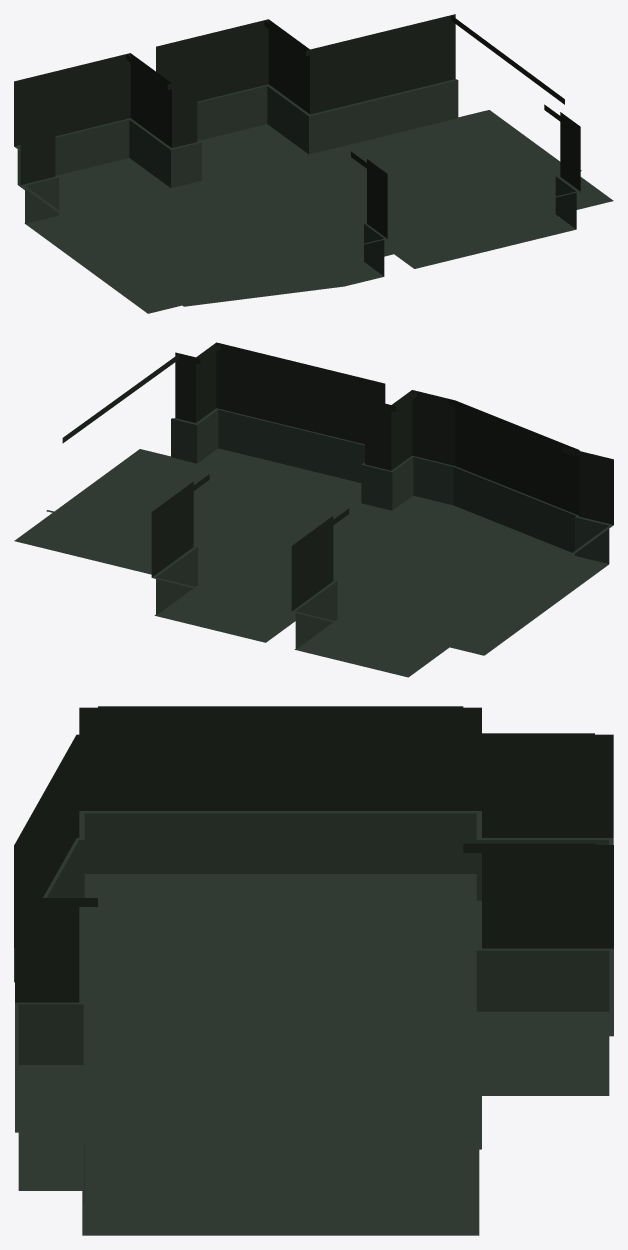
The model's file is bar.fbx.
The picture shows the model from 3 angles, top to bottom: view 1: azimuth 30°, elevation 25°; view 2: azimuth 150°, elevation 25°; view 3: azimuth 270°, elevation 25°; orthographic projection. The views are drawn at different scales.
Visible parts, largest first — view 1: Remade-Bar.Floor, Remade-Bar-Walls, Remade-Bar-Ceiling; view 2: Remade-Bar.Floor, Remade-Bar-Walls, Remade-Bar-Ceiling; view 3: Remade-Bar.Floor, Remade-Bar-Walls, Remade-Bar-Ceiling.
Boxes of the visible parts, <box> form: Remade-Bar.Floor: <box>18,110,613,313</box>; Remade-Bar-Walls: <box>14,14,581,277</box>; Remade-Bar-Ceiling: <box>30,15,564,171</box>; Remade-Bar.Floor: <box>14,448,608,677</box>; Remade-Bar-Walls: <box>46,342,613,649</box>; Remade-Bar-Ceiling: <box>62,343,597,543</box>; Remade-Bar.Floor: <box>18,874,609,1235</box>; Remade-Bar-Walls: <box>14,707,613,1202</box>; Remade-Bar-Ceiling: <box>32,706,595,906</box>.
Size of the model in its own units: 1331 by 296 by 928.
